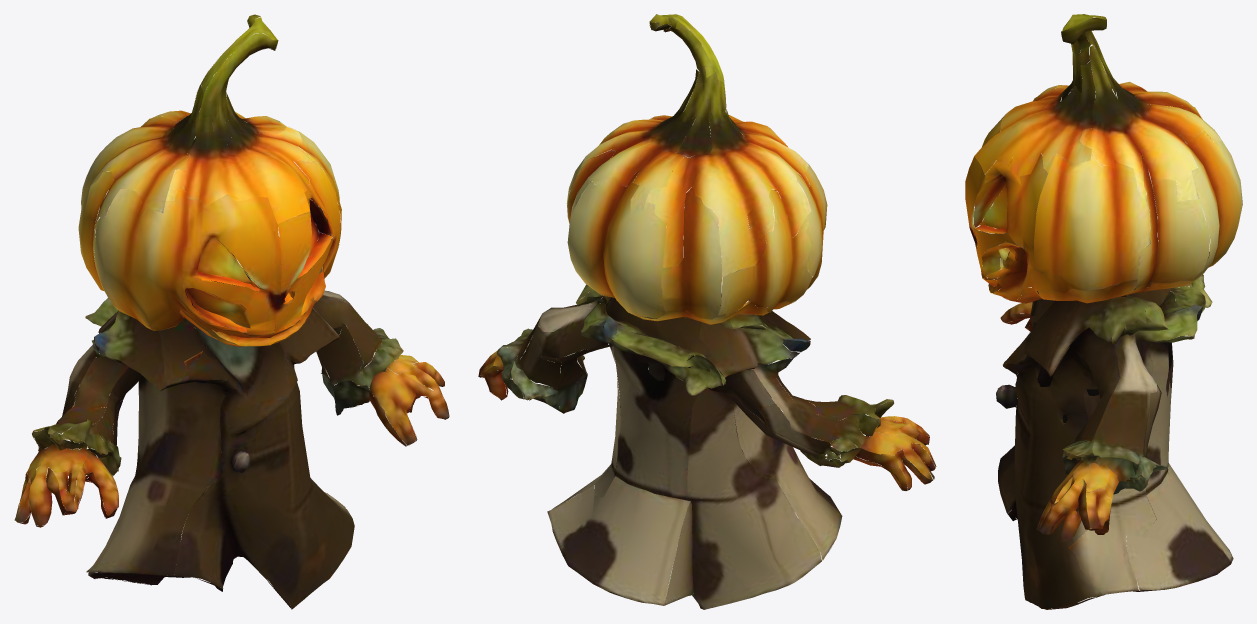
The model's file is pumpkin_man.glb.
The picture shows the model from 3 angles, left to right: view 1: azimuth 30°, elevation 25°; view 2: azimuth 150°, elevation 25°; view 3: azimuth 270°, elevation 25°; orthographic projection. The views are drawn at different scales.
Parts seen in each view (by area): view 1: geometry_0; view 2: geometry_0; view 3: geometry_0.
Boxes of the visible parts, x1=… form: geometry_0: x1=14, y1=14, x2=449, y2=609; geometry_0: x1=478, y1=14, x2=936, y2=609; geometry_0: x1=965, y1=14, x2=1242, y2=609.
Size of the model in its own units: 0.7362 by 0.8942 by 0.3847.
Materials: 1 (1 with a texture image).
